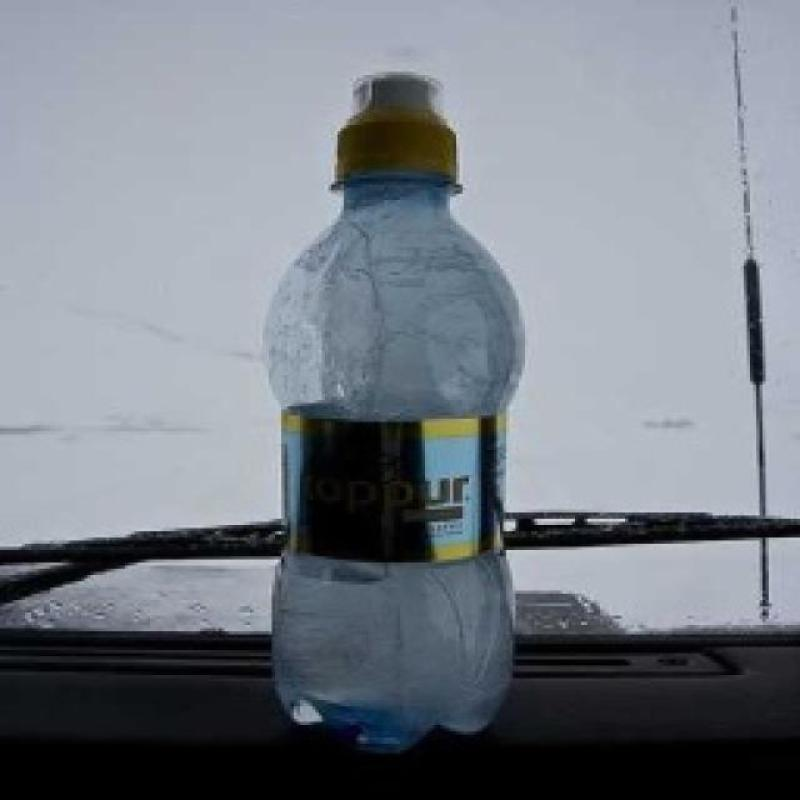botella: (260, 71, 528, 752)
